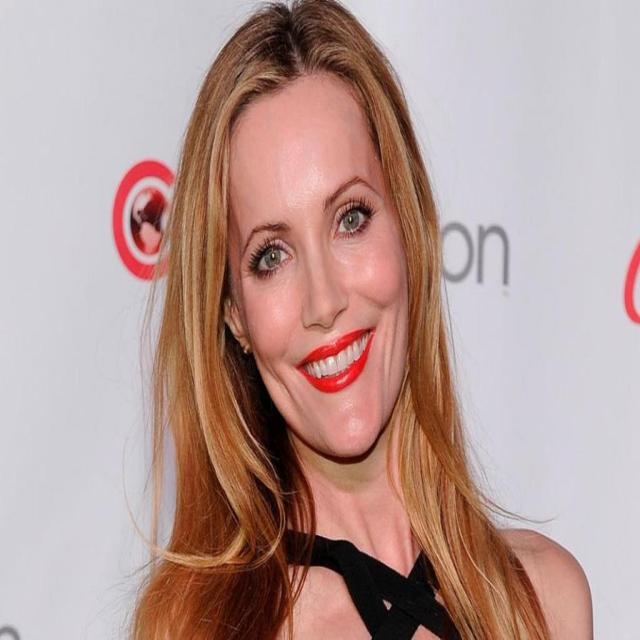Face: (210, 89, 422, 454)
